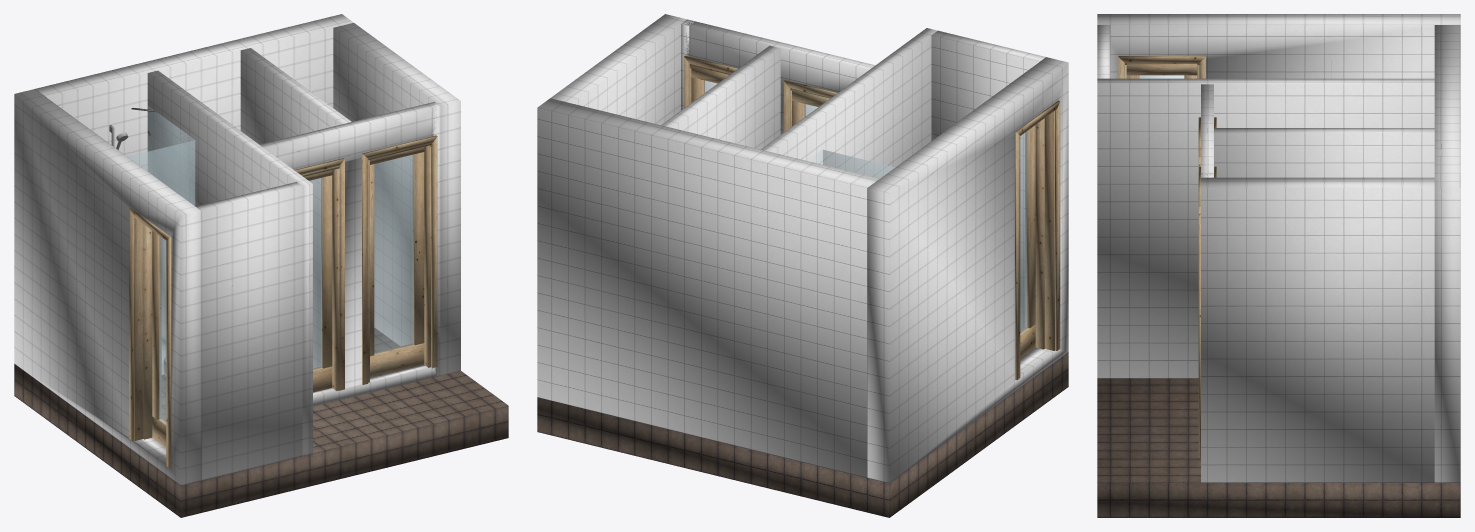
Rendered from glass-bathroom-model.glb.
3 renders of one model, left to right at view 1: azimuth 30°, elevation 25°; view 2: azimuth 150°, elevation 25°; view 3: azimuth 270°, elevation 25°, orthographic. The views are drawn at different scales.
Visible parts, largest first — view 1: Без имени; view 2: Без имени; view 3: Без имени.
Boxes of the visible parts, bbox=[...] form: Без имени: bbox=[14, 14, 508, 517]; Без имени: bbox=[537, 14, 1068, 517]; Без имени: bbox=[1097, 14, 1460, 517].
Bounding box in the file's own units: 3199 × 2800 × 2800.
Materials: 11 (4 with a texture image).
